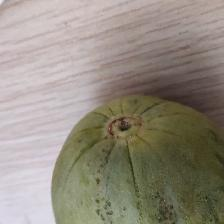gua: (69, 99, 193, 213)
